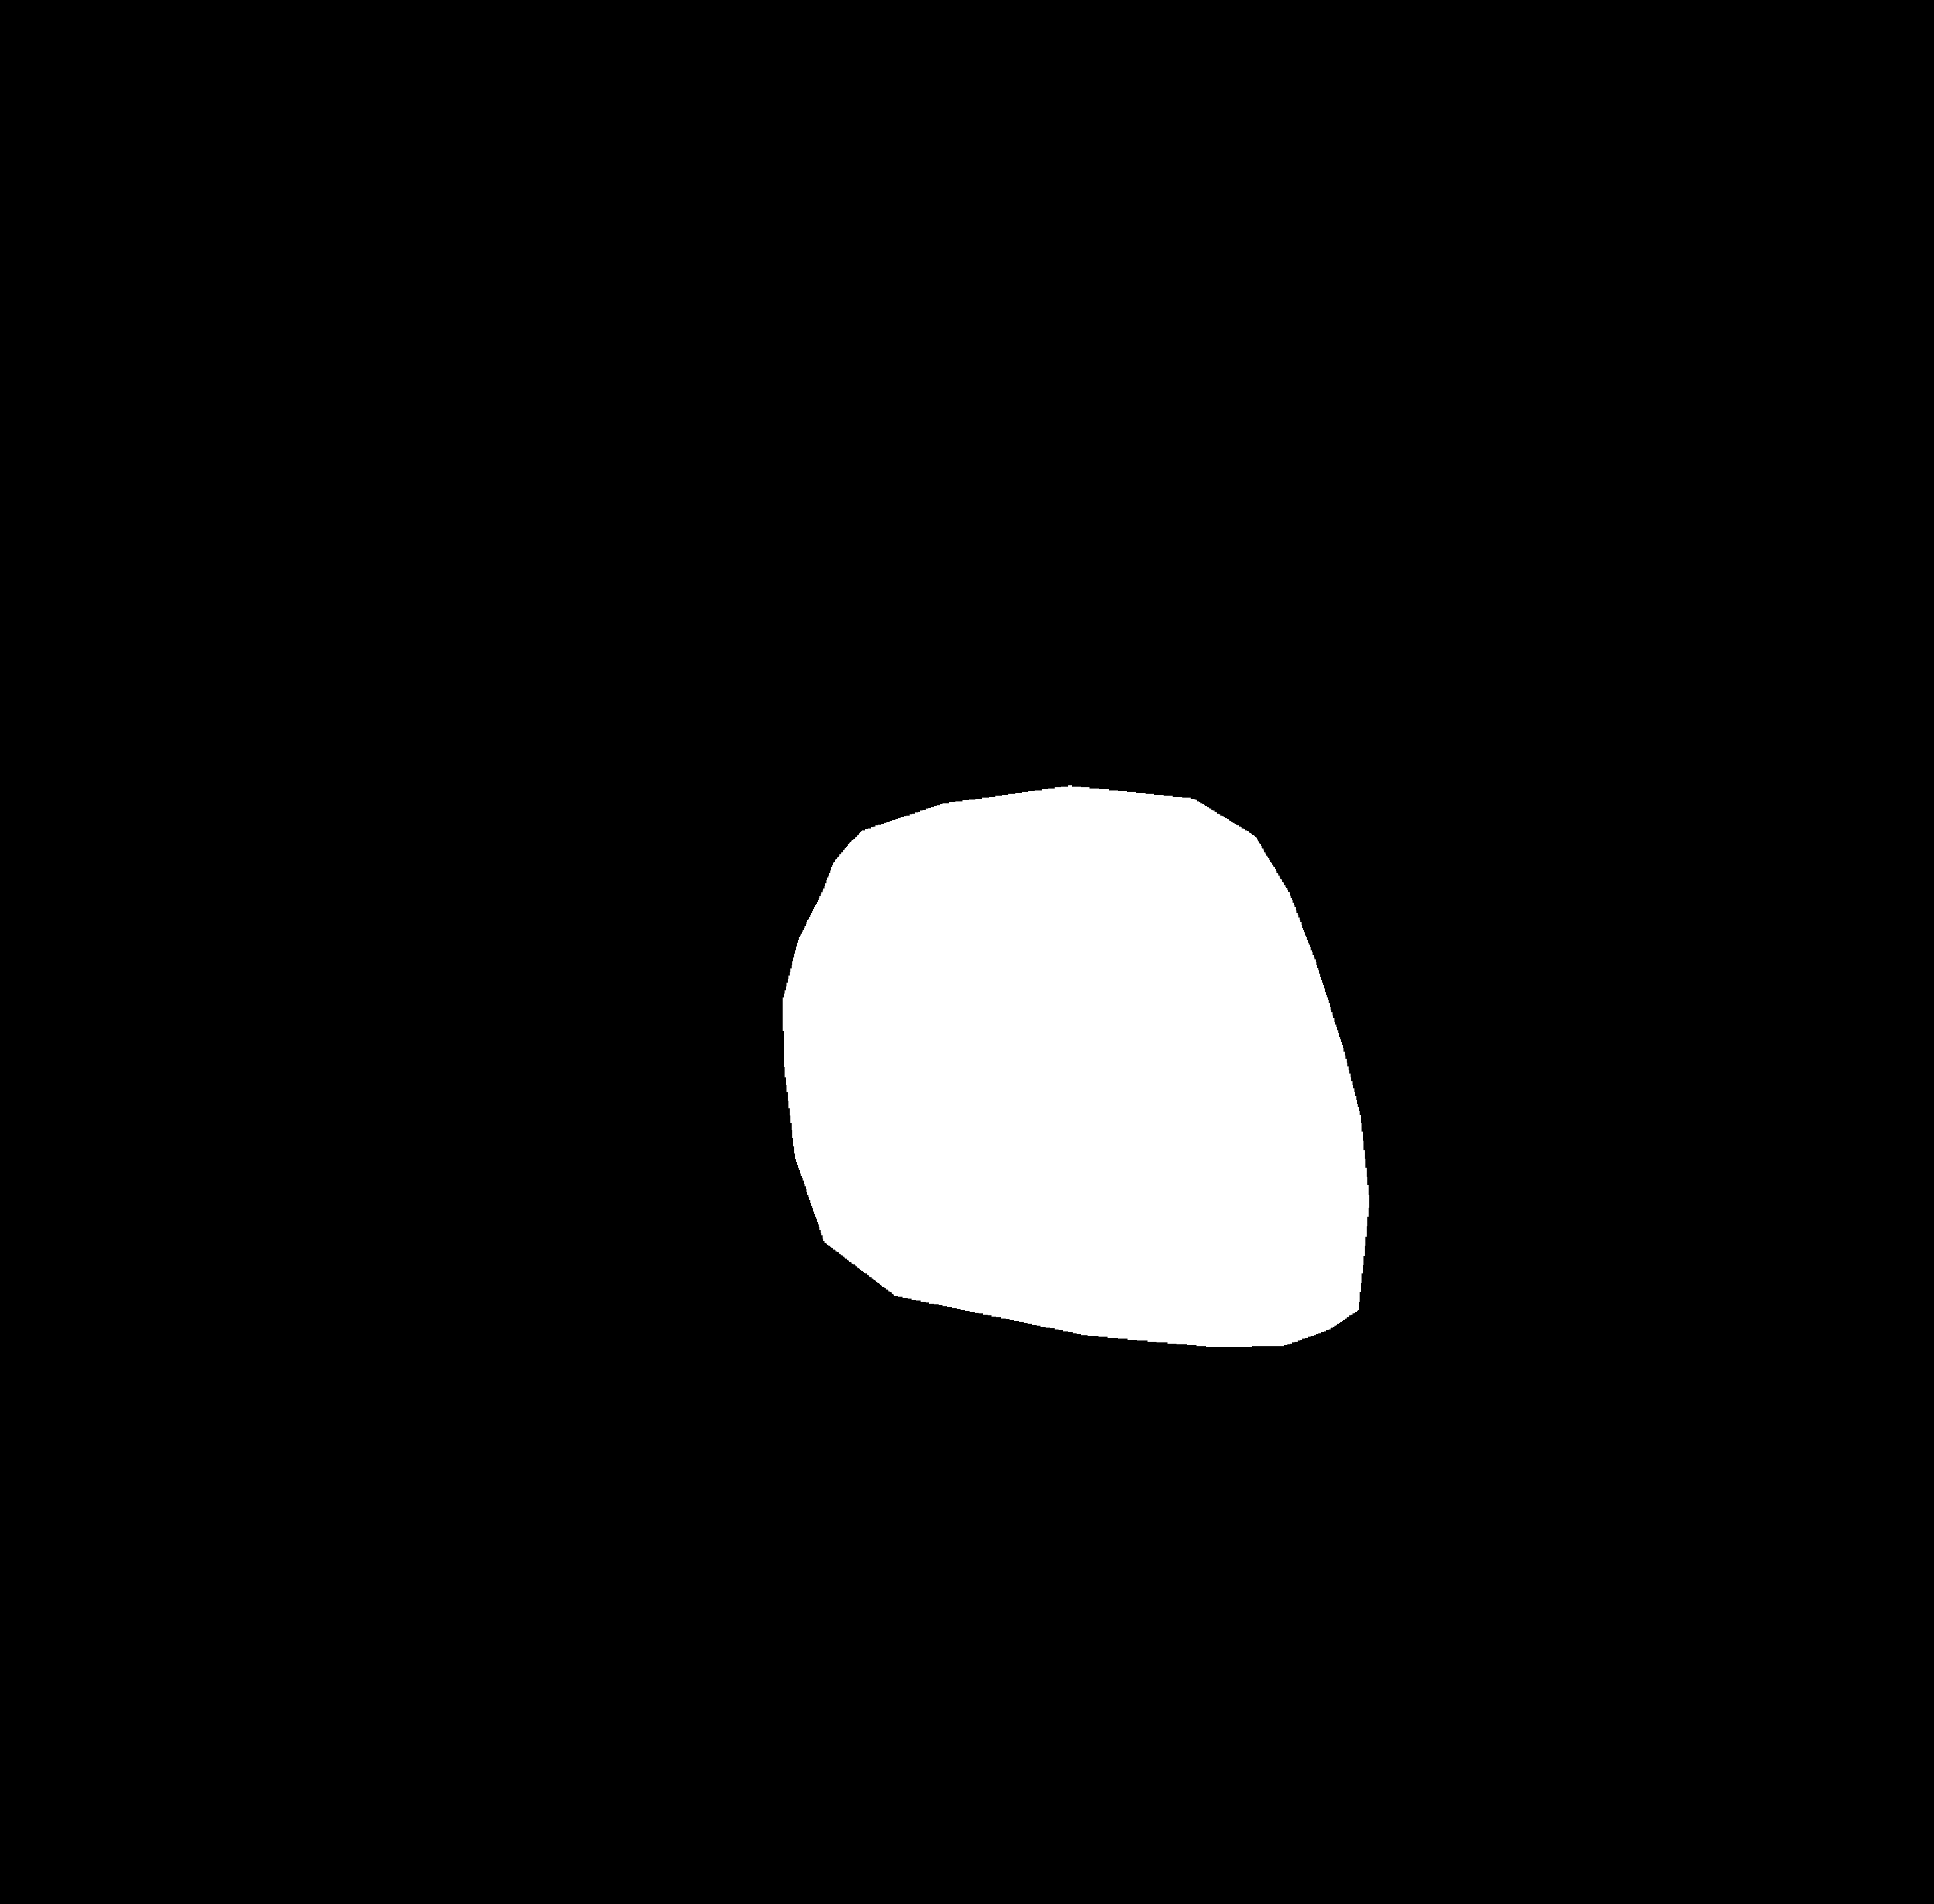heart: (787, 853, 1365, 1353)
left_lung: (255, 166, 930, 1569)
right_lung: (1066, 235, 1638, 1554)
